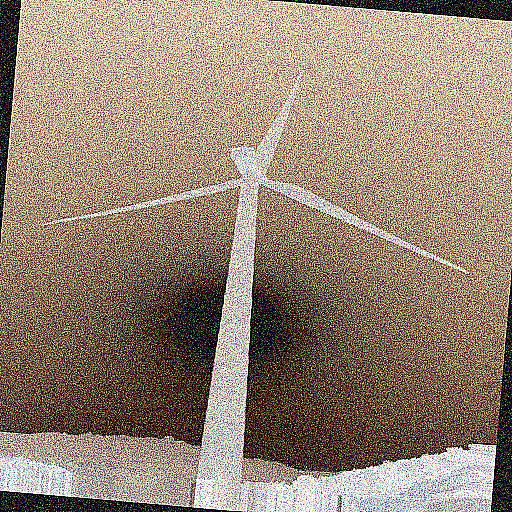wind turbine: (37, 70, 472, 468)
